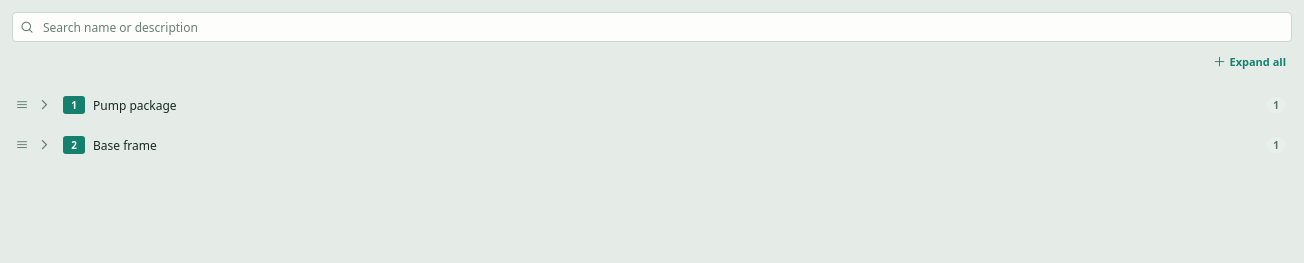
Test case: QuotationNavigator › expands and collapses all visible groups from the header action
expect the number of elements with class "nav-row" is 2: met, box [12,91,1292,119]; [12,131,1292,159]
expect the text with class "navigator-toolbar-label" reads "Expand all": met, box [1230,54,1286,69]
Click the button with class "navigator-toolbar-action".
click(1250, 62)  # box [1208,50,1292,73]
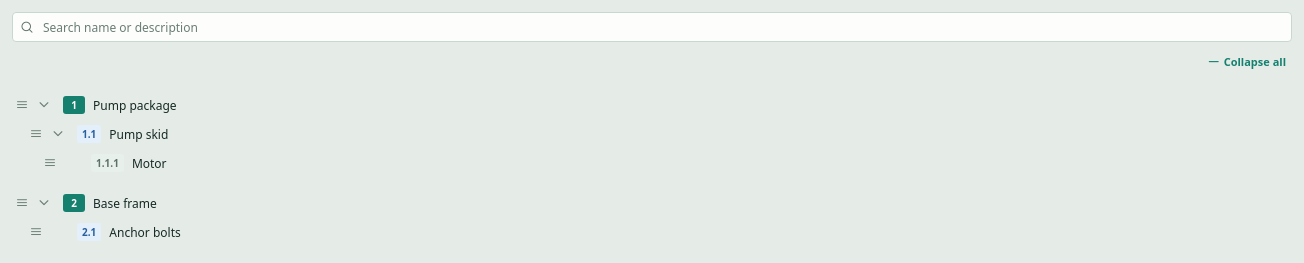
expect the number of elements with class "nav-row" is 5: met, box [12,91,1292,119]; [12,120,1292,148]; [12,149,1292,177]; [12,189,1292,217]; [12,218,1292,246]
expect the text "1.1" is shown: met, box [77,125,101,143]
expect the text "1.1.1" is shown: met, box [91,154,124,172]
Click the button with class "navigator-toolbar-action".
click(1247, 62)  # box [1203,50,1292,73]
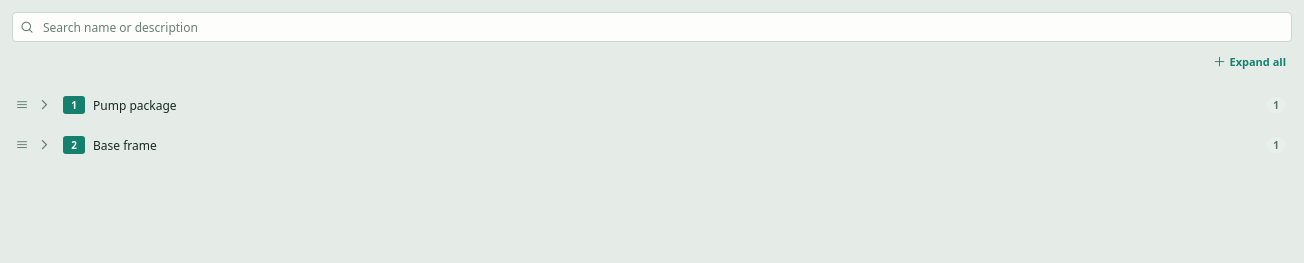
expect the number of elements with class "nav-row" is 2: met, box [12,91,1292,119]; [12,131,1292,159]
expect the text "1.1" is gone: met
expect the text "1.1.1" is gone: met
